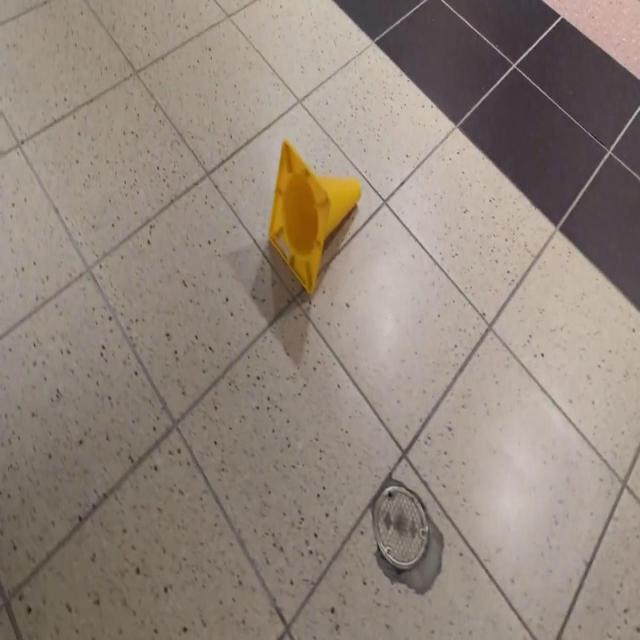frc_cone: (266, 138, 362, 292)
